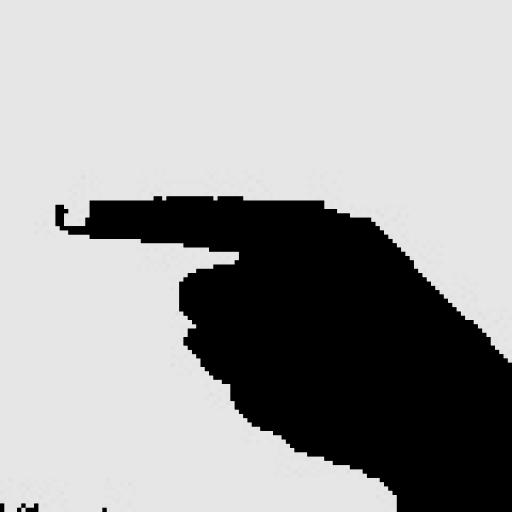index_left: (53, 193, 512, 407)
